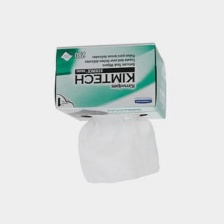book: (49, 37, 175, 128)
tissue: (73, 109, 164, 190)
